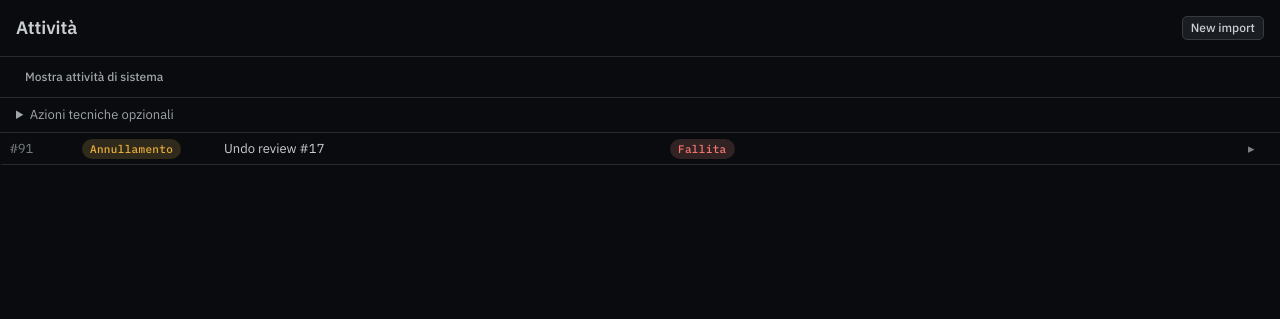
Scenario: Jobs undo activity summary › distinguishes failed, pending, skipped, and unknown file outcomes
What coordinates should you click on to do the following:
click the button "Undo review #17"
I would click on:
 (640, 149)
Its box is x1=0 y1=133 x2=1279 y2=165.
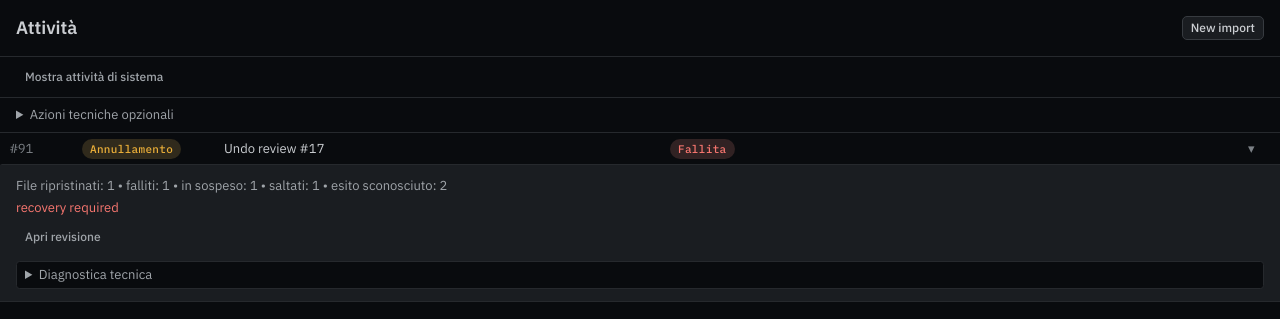
Result: the text "File ripristinati: 1 • falliti: 1 • in sospeso: 1 • saltati: 1 • esito sconosciuto: 2" is shown at x1=16 y1=177 x2=447 y2=194
